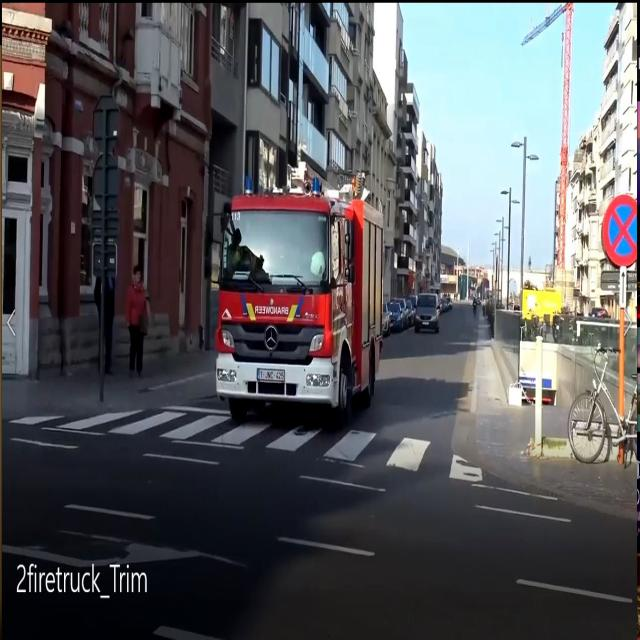emergency: (207, 159, 391, 427)
